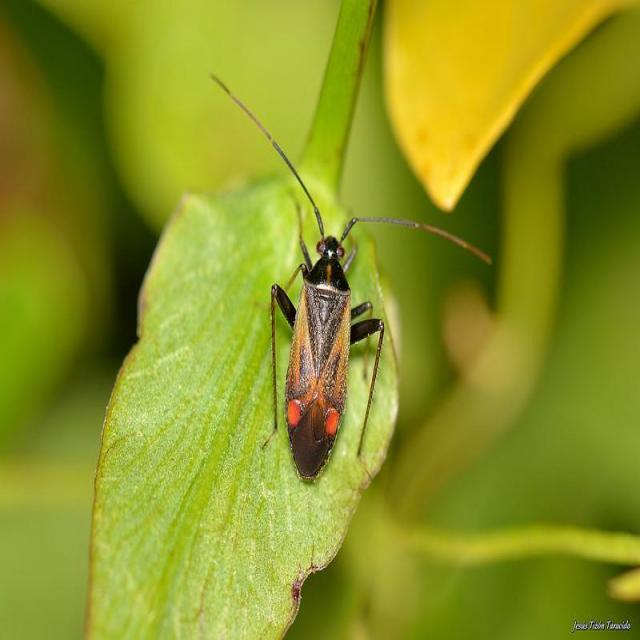Miridae-Adult-: (201, 57, 492, 490)
